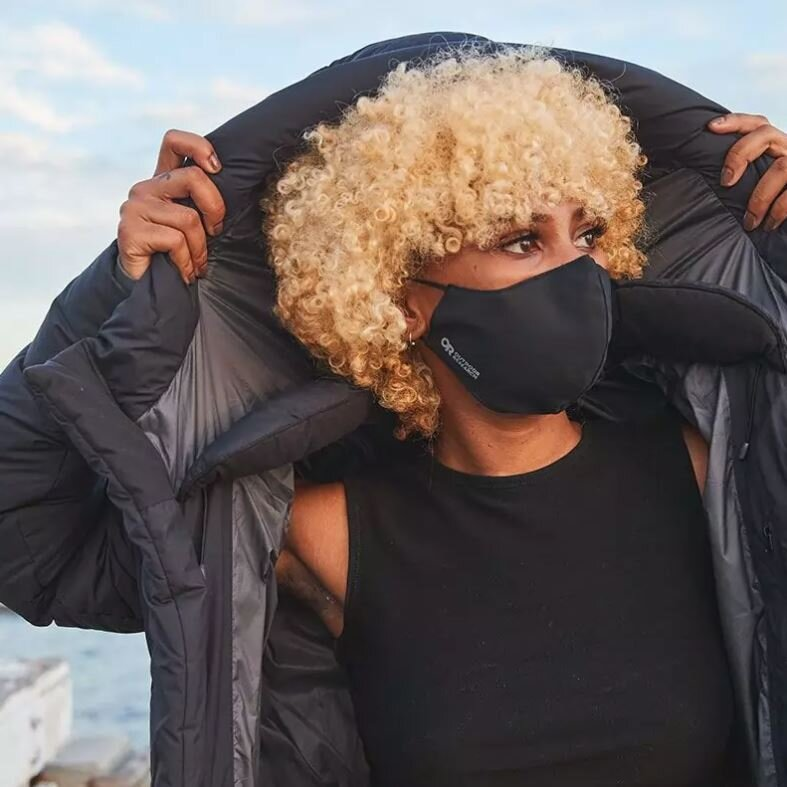with_mask: (460, 214, 599, 391)
